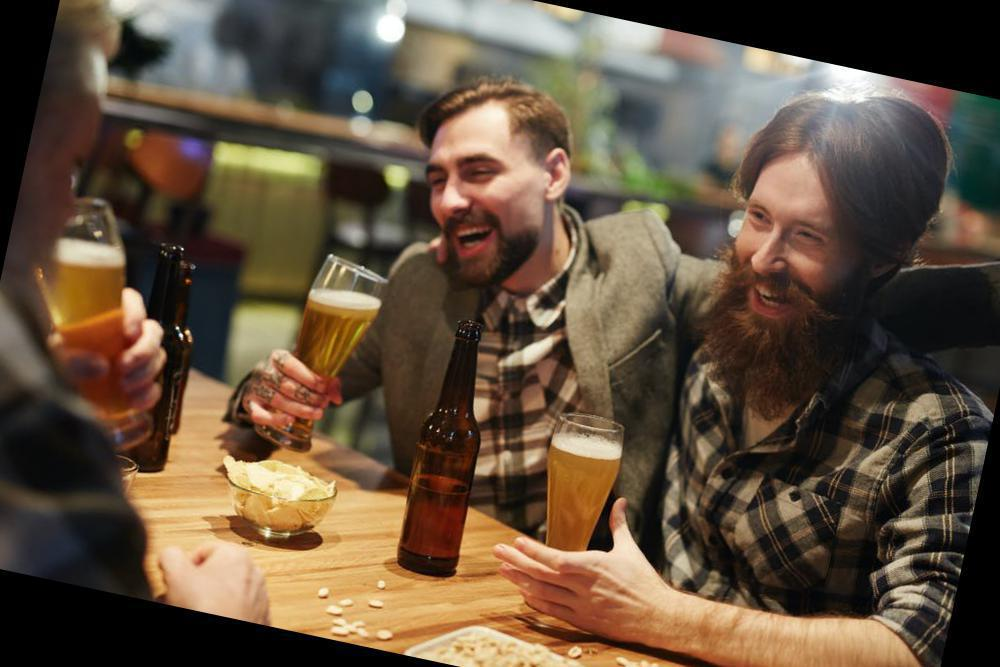Drunk: (735, 156, 841, 340), (429, 122, 540, 275)
